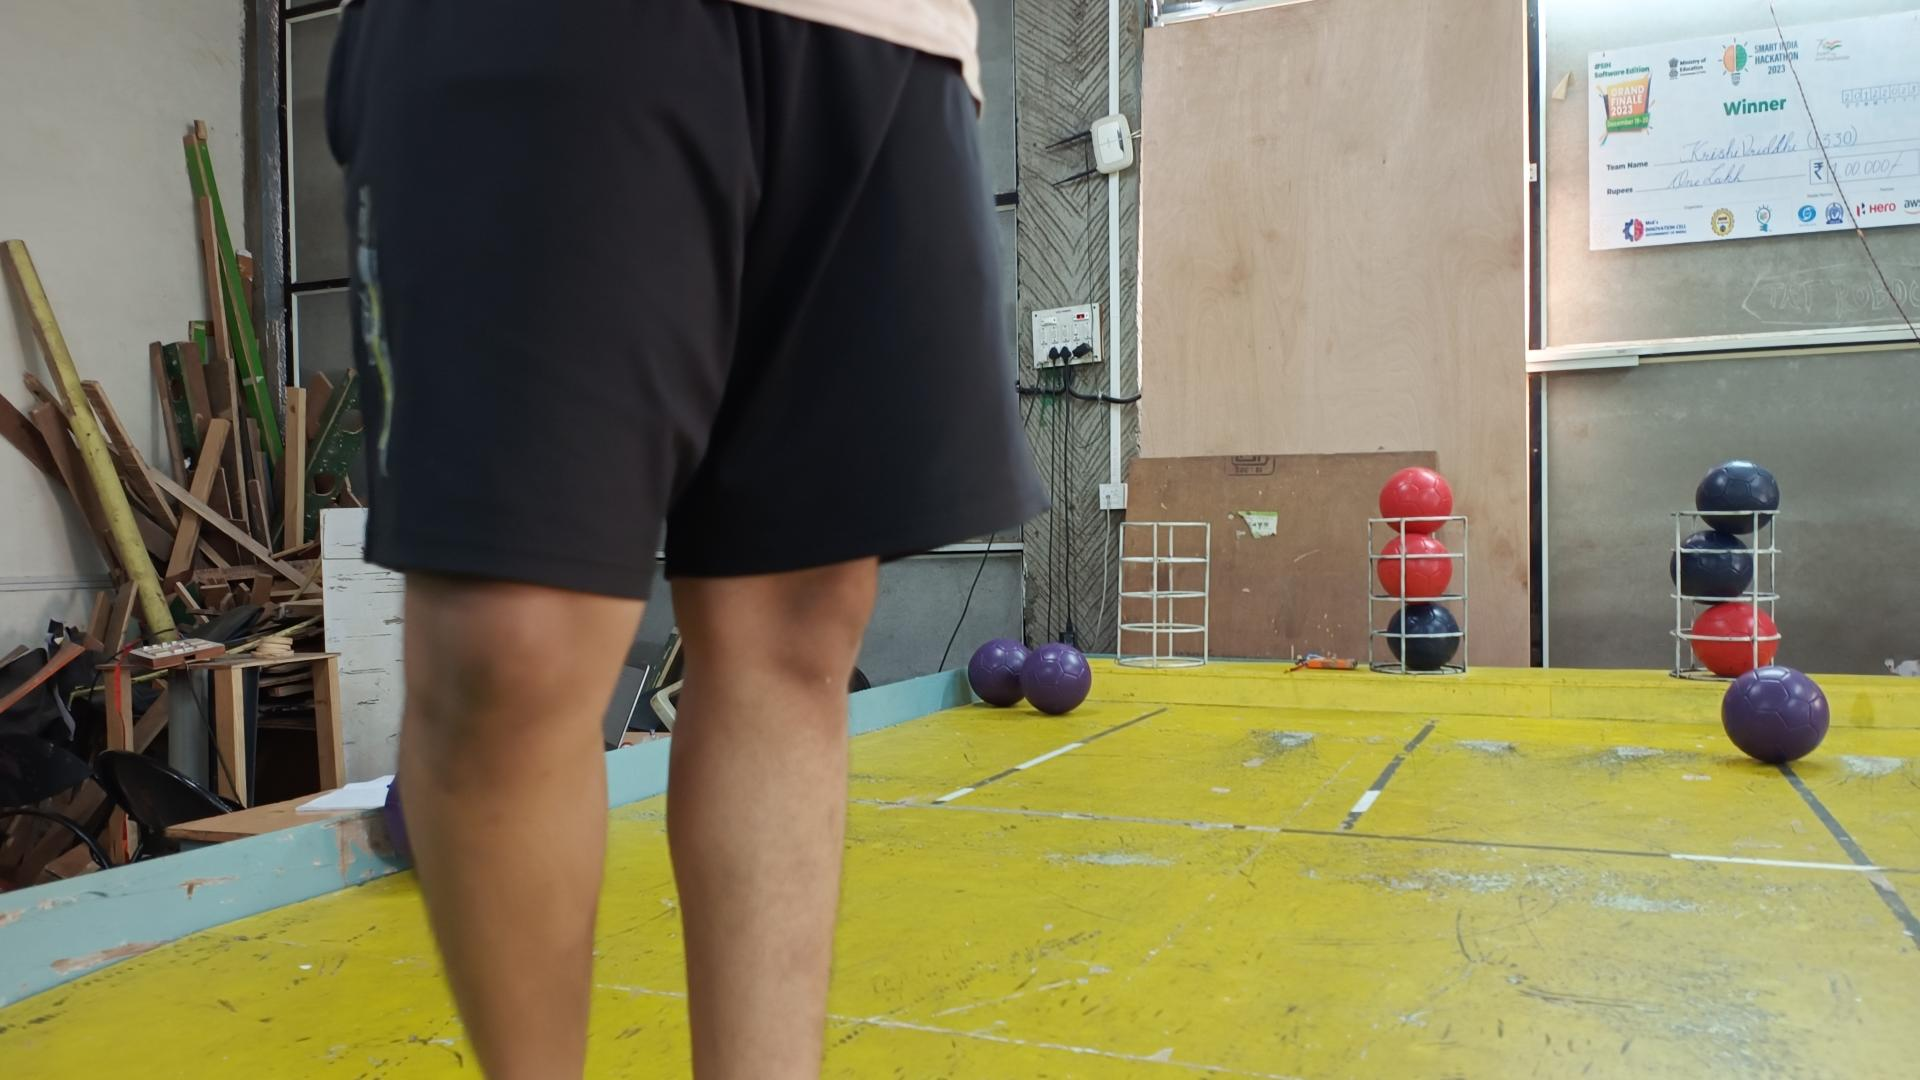dhoka: (1695, 462, 1778, 537), (1672, 529, 1751, 600), (1387, 604, 1458, 671)
laale: (1692, 600, 1778, 679), (1379, 465, 1455, 533), (1377, 533, 1452, 600)
